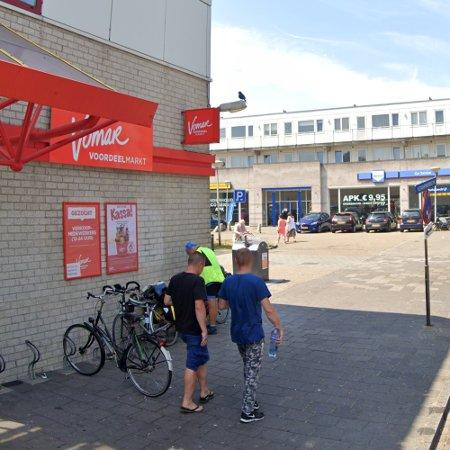bicycles: (63, 282, 173, 398)
